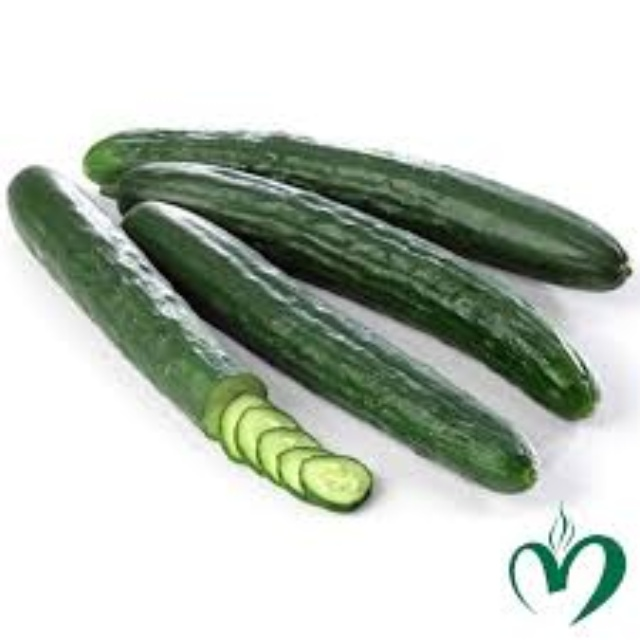dua_leo: (112, 159, 604, 420), (119, 201, 543, 497), (77, 125, 633, 291)
